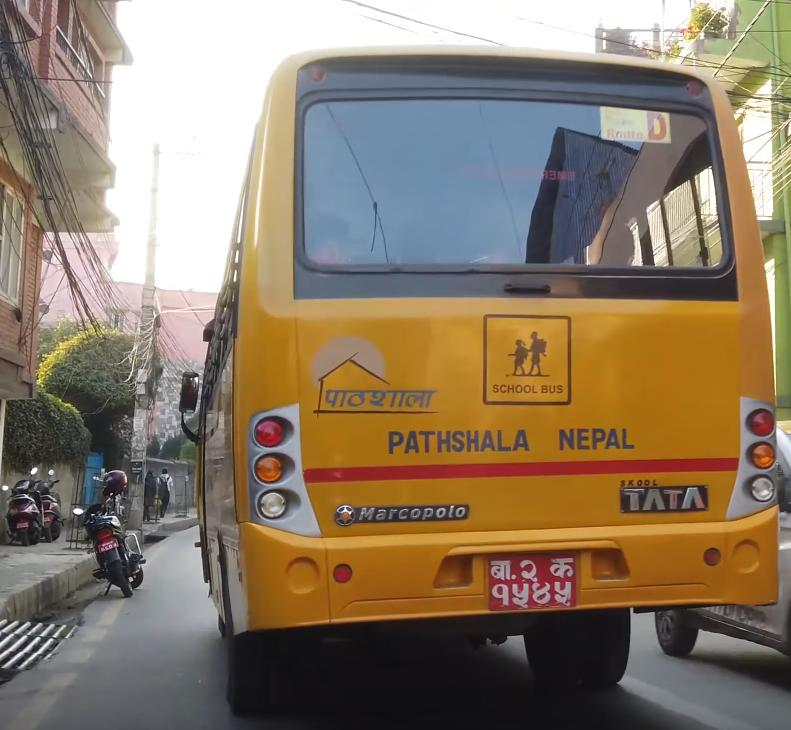bike: (74, 497, 151, 599)
school_bus: (172, 40, 785, 698)
scooter: (0, 466, 46, 552)
